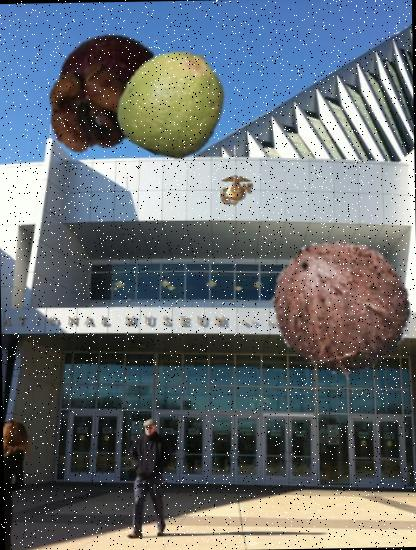Cocos: (270, 232, 416, 378)
Limes: (117, 46, 229, 158)
Mangostan: (36, 27, 170, 161)
